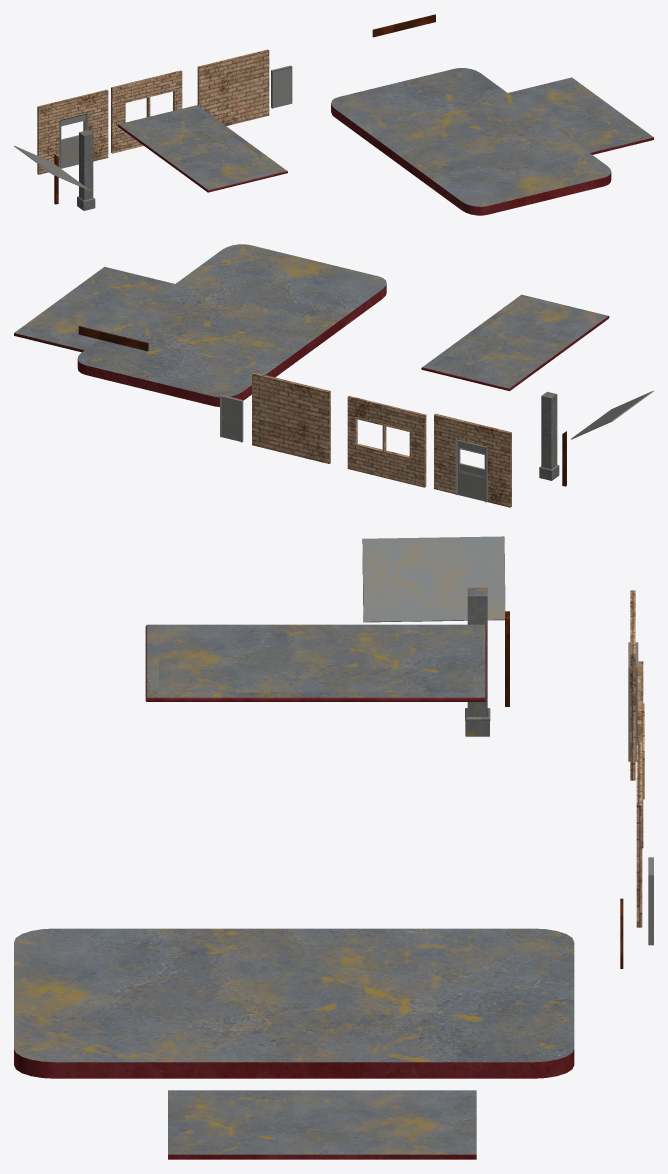
File: gas stations.fbx
3 renders of one model, top to bottom at view 1: azimuth 30°, elevation 25°; view 2: azimuth 150°, elevation 25°; view 3: azimuth 270°, elevation 25°, orthographic. The views are drawn at different scales.
Parts seen in each view (by area): view 1: pCube6, polySurface189, polySurface176, polySurface209, polySurface181, polySurface180, pCube5, polySurface179, polySurface172, polySurface198, polySurface187; view 2: pCube6, polySurface189, polySurface176, polySurface209, polySurface180, polySurface181, polySurface179, pCube5, polySurface172, polySurface187, polySurface198; view 3: pCube6, polySurface189, polySurface176, polySurface198, pCube5, polySurface209, polySurface181, polySurface180.
Part boxes in pixels (box(x1,y1,x2,y2)): pCube6: box(331, 68, 611, 215); polySurface189: box(117, 105, 287, 192); polySurface176: box(508, 77, 653, 154); polySurface209: box(197, 49, 269, 125); polySurface181: box(37, 89, 108, 174); polySurface180: box(111, 70, 182, 153); pCube5: box(77, 130, 95, 210); polySurface179: box(59, 113, 88, 168); polySurface172: box(271, 65, 292, 108); polySurface198: box(14, 145, 89, 190); polySurface187: box(372, 14, 435, 37); pCube6: box(77, 244, 386, 406); polySurface189: box(421, 294, 609, 391); polySurface176: box(14, 266, 174, 352); polySurface209: box(252, 372, 330, 463); polySurface180: box(347, 396, 426, 487); polySurface181: box(434, 413, 511, 507); polySurface179: box(455, 439, 487, 502); pCube5: box(539, 391, 559, 480); polySurface172: box(220, 395, 243, 442); polySurface187: box(78, 326, 148, 351); polySurface198: box(571, 390, 653, 439); pCube6: box(14, 928, 574, 1078); polySurface189: box(145, 624, 486, 701); polySurface176: box(168, 1090, 476, 1159); polySurface198: box(362, 536, 505, 622); pCube5: box(465, 587, 490, 736); polySurface209: box(636, 741, 642, 927); polySurface181: box(630, 590, 635, 780); polySurface180: box(637, 661, 644, 848).
Bounding box in the file's own units: 25.99 × 3.35 × 13.92.
